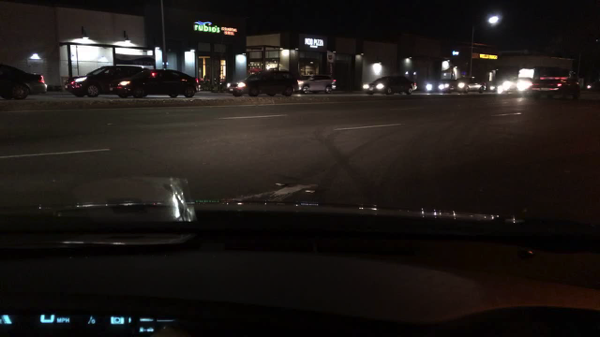car: (112, 67, 198, 100), (63, 65, 146, 97), (226, 69, 298, 96), (0, 62, 49, 100), (529, 69, 581, 100), (361, 74, 417, 98), (296, 74, 337, 95), (443, 77, 484, 93), (506, 77, 534, 94), (423, 79, 454, 93), (491, 78, 514, 93), (586, 82, 599, 90)
